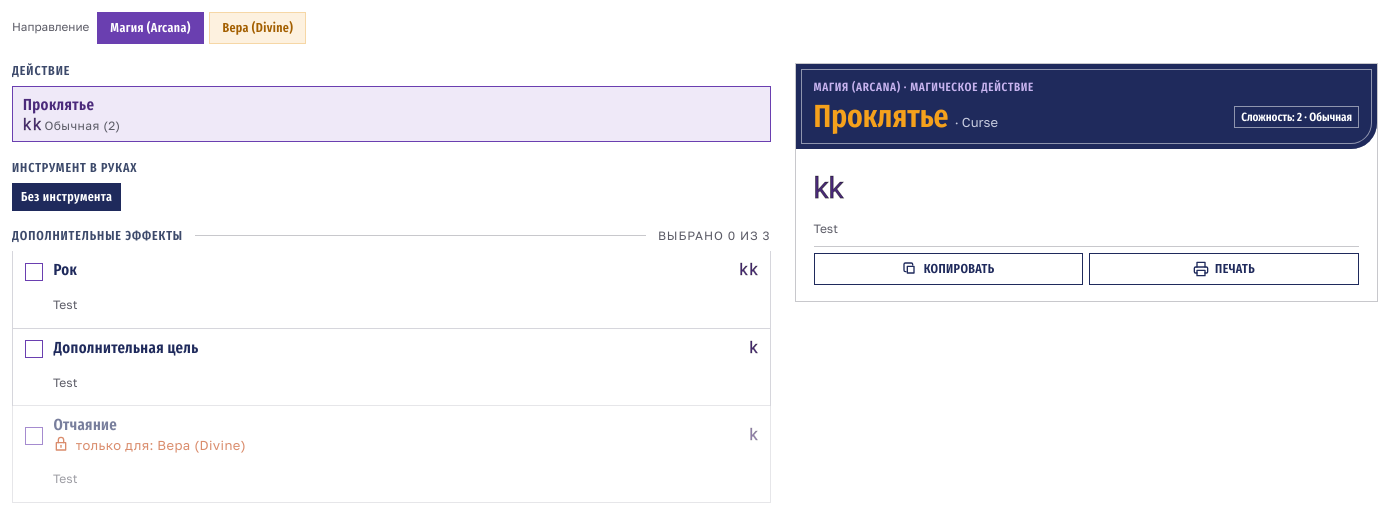
Test case: MagicBuilder — доступность эффектов направлению › при смене направления недоступный эффект перестаёт считаться в сложности
The width and height of the screenshot is (1378, 520).
Expected: the text "Сложность: 2 · Обычная" is shown, [1234,106,1359,128]
Click the checkbox labelled "Рок". click: click(34, 272)
box: [25,263,43,281]
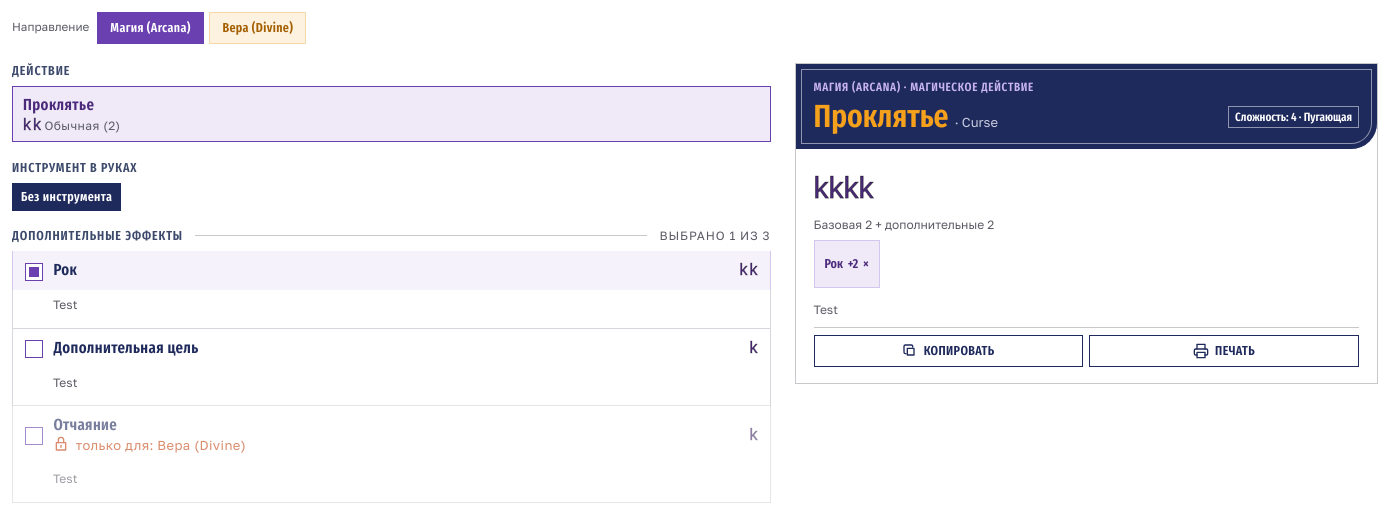
Result: the text "Сложность: 4 · Пугающая" is shown at [1228,106,1359,128]
# Жрецу «Рок» недоступен — он и в сложность больше не входит.
Click the button "Вера (Divine)". click: click(258, 28)
box: [209,12,306,44]
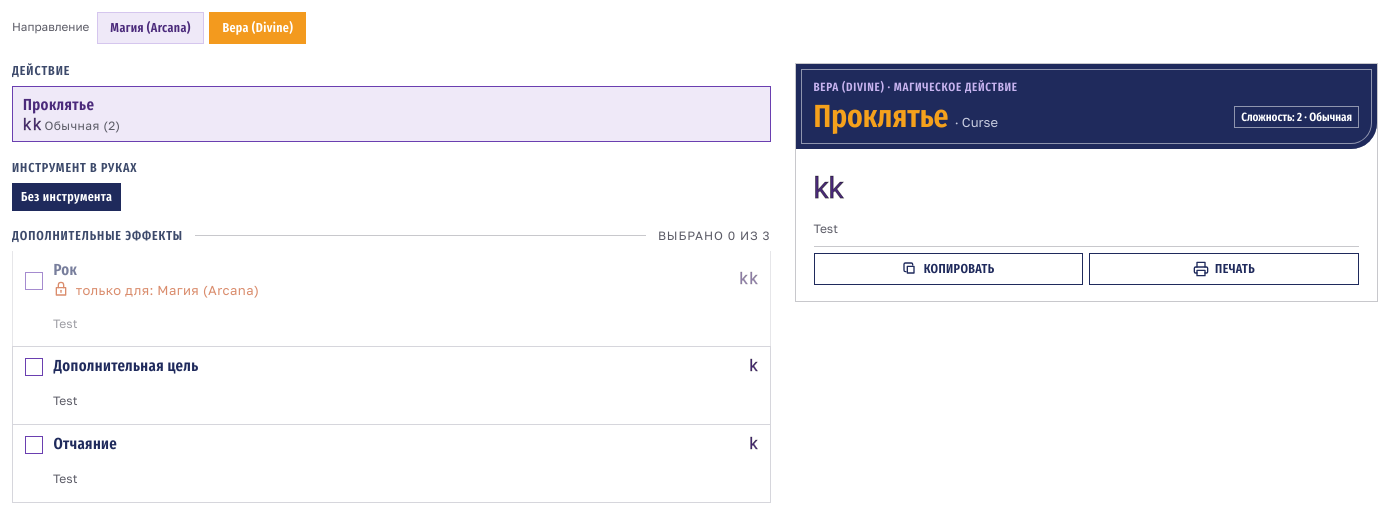
Result: the text "Сложность: 2 · Обычная" is shown at [1234,106,1359,128]
Result: the checkbox labelled "Рок только для: Магия (Arcana)" is disabled at [25,272,43,290]
